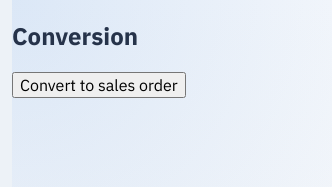
Test case: QuoteConversionAction › submits conversion and shows success feedback
Click the button "Convert to sales order".
click(99, 85)  # box [12,72,186,98]
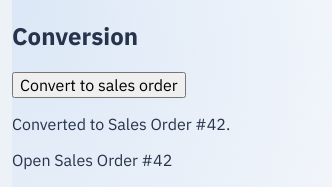
expect the text "Converted to Sales Order #42." is shown: met, box [12,114,230,134]
